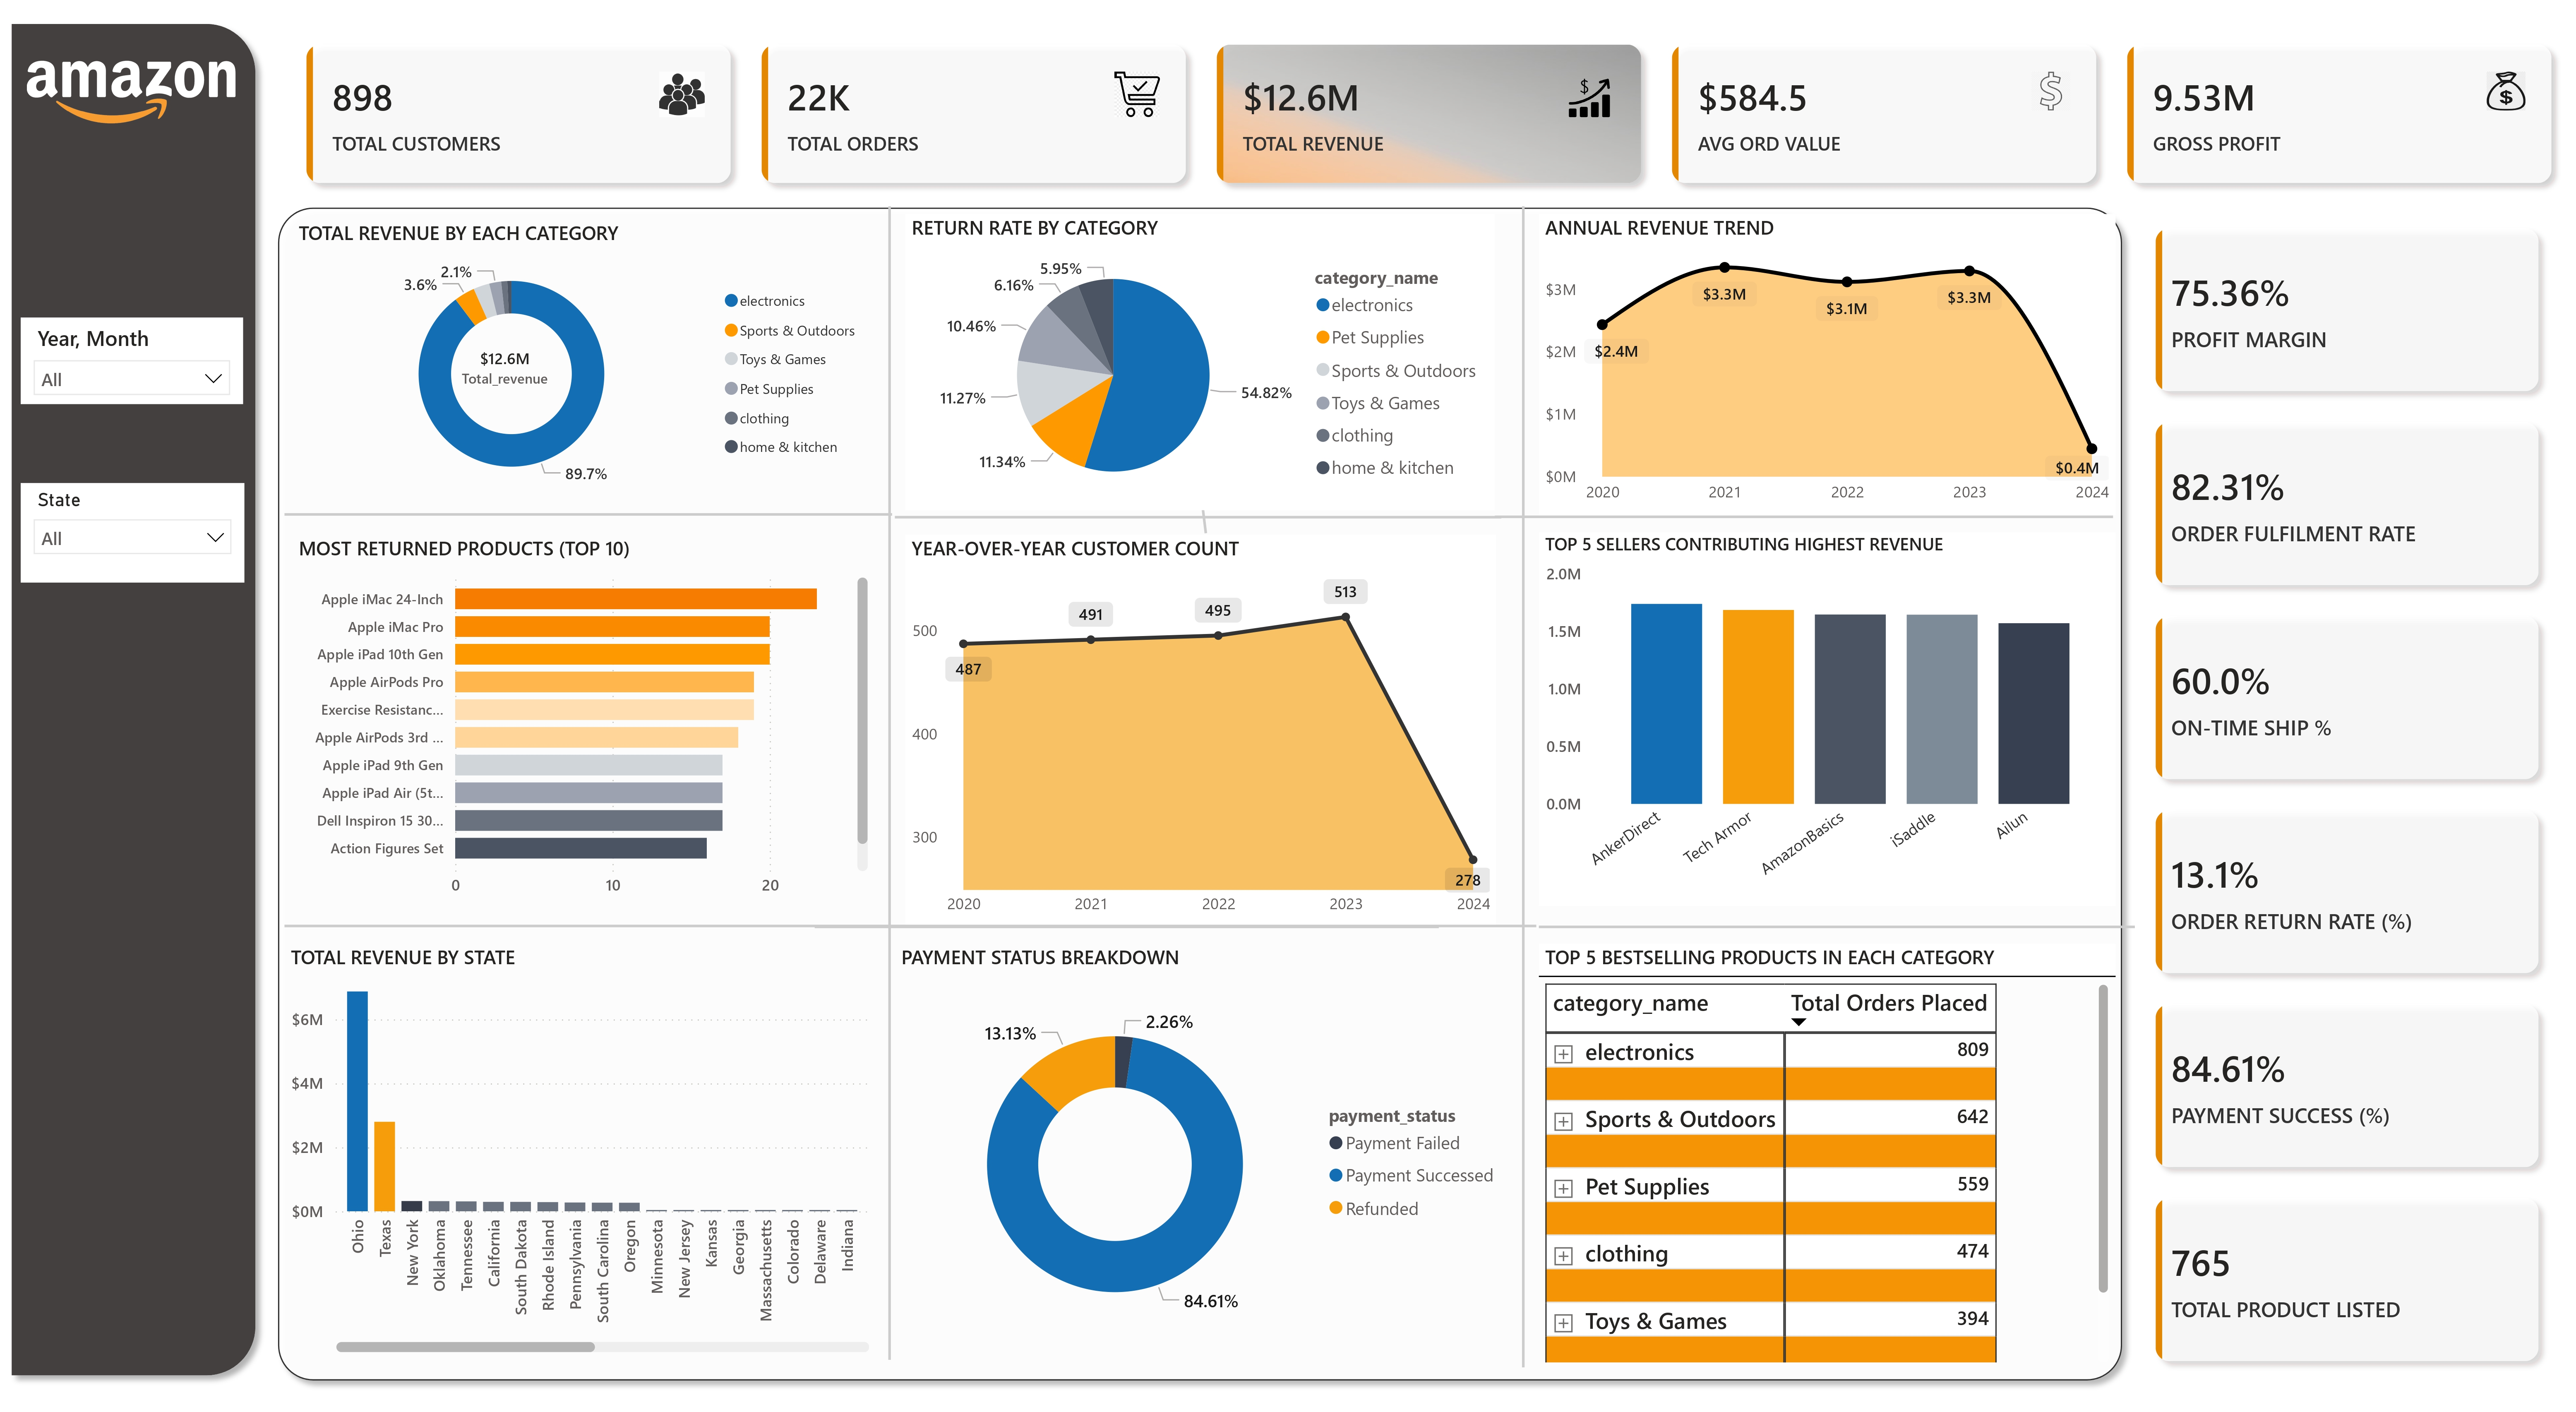

The page's visual inventory and layout, read from the dashboard file:
{"tool":"powerbi","page":{"name":"Amazon Business Dashboard","canvas":[1992,1073],"ordinal":0},"visuals":[{"type":"shape","box":[0,0,206.5,1063],"z":0},{"type":"image","box":[16.4,31.5,172.6,69.9],"z":1000},{"type":"cardVisual","fields":{"Data":["amazon_db customers.Total_customers","amazon_db orders.Total_orders","amazon_db orders_items.Total_revenue","amazon_db customers.Average_order_value","amazon_db orders_items.Gross Profit"]},"box":[219.6,8.7,1773.9,141.3],"z":2000},{"type":"cardVisual","fields":{"Data":["amazon_db orders_items.Profit_margin","amazon_db orders.Order Fulfillment Rate (%)","amazon_db shipping.On-Time-Shipping Rate (%)","amazon_db orders.Order Return Rate (%)","amazon_db payments.Payment Success Rate","amazon_db products.TotalProductListed"]},"box":[1650,150,330.4,913],"z":3000},{"type":"shape","box":[206.5,141.3,1444,925],"z":4000},{"type":"donutChart","title":"TOTAL REVENUE BY EACH CATEGORY","fields":{"Y":["amazon_db orders_items.total_sale"],"Category":["amazon_db category.category_name"]},"box":[225.7,160,450,218.6],"z":5000},{"type":"cardVisual","fields":{"Data":["amazon_db orders_items.Total_revenue"]},"box":[308.6,227.1,165.7,92.9],"z":6000},{"type":"clusteredBarChart","title":"MOST RETURNED PRODUCTS (TOP 10)","fields":{"Category":["amazon_db products.product_name"],"Y":["amazon_db products.Returned Products Count"]},"box":[225.7,404.3,450,288.6],"z":7000},{"type":"columnChart","title":"TOTAL REVENUE BY STATE","fields":{"Category":["amazon_db customers.state"],"Y":["amazon_db orders_items.Total_revenue"]},"box":[219,720.6,457.1,320.6],"z":8000},{"type":"shape","box":[219,374.6,469.8,28.6],"z":9000},{"type":"shape","box":[219.4,691.9,469.4,29],"z":10000},{"type":"shape","box":[676.2,149.2,23.8,892.1],"z":11000},{"type":"lineChart","title":"YEAR-OVER-YEAR CUSTOMER COUNT","fields":{"Y":["amazon_db customers.Total Customers per Year"],"Category":["amazon_db orders.order_year"]},"box":[700,403.2,457.1,303.2],"z":12000},{"type":"shape","box":[691.9,374.2,477.4,29],"z":13000},{"type":"donutChart","title":"PAYMENT STATUS BREAKDOWN","fields":{"Category":["amazon_db payments.payment_status"],"Y":["amazon_db payments.Payment Count"]},"box":[691.9,721,477.4,321],"z":14000},{"type":"shape","box":[688.7,691.9,500,29],"z":15000},{"type":"pieChart","title":"RETURN RATE BY CATEGORY","fields":{"Category":["amazon_db category.category_name"],"Y":["amazon_db shipping.Total Returns"]},"box":[700,155.8,455.8,228.8],"z":16000},{"type":"pivotTable","title":"TOP 5 BESTSELLING PRODUCTS IN EACH CATEGORY","fields":{"Rows":["amazon_db category.category_name","amazon_db products.product_name"],"Values":["amazon_db products.Total Orders Placed"]},"box":[1189.1,719.6,445.7,328.3],"z":17000},{"type":"shape","box":[630.4,691.3,482.6,30.4],"z":18000},{"type":"lineChart","title":"ANNUAL REVENUE TREND ","fields":{"Category":["amazon_db orders.order_year"],"Y":["amazon_db orders_items.Total_revenue"]},"box":[1189.1,156.5,445.7,232.6],"z":19000},{"type":"columnChart","title":"TOP 5 SELLERS CONTRIBUTING HIGHEST REVENUE","fields":{"Category":["amazon_db sellers.seller_name"],"Y":["amazon_db orders_items.total_sale"]},"box":[1189.1,402.2,445.7,289.1],"z":20000},{"type":"shape","box":[692.3,375,469.2,28.8],"z":21000},{"type":"shape","box":[1156.5,376.1,478.3,28.3],"z":22000},{"type":"shape","box":[1165.2,150,23.9,897.8],"z":23000},{"type":"shape","box":[1189.1,691.3,460.9,30.4],"z":24000},{"type":"slicer","fields":{"Values":["amazon_db orders.order_date.Variation.Date Hierarchy.Year","amazon_db orders.order_date.Variation.Date Hierarchy.Month"]},"box":[16.7,236.7,171.7,66.7],"z":25000},{"type":"slicer","fields":{"Values":["amazon_db customers.state"]},"box":[16.7,363.3,173.3,76.7],"z":26000}]}

Visuals, with their boxes in screenshot pixels (x1, y1, x2, y2), scaled from the page's 1992x1073 canvas onto the 2576x1412 screenshot:
shape: select_region(0, 0, 267, 1399)
image: select_region(21, 41, 245, 133)
cardVisual - amazon_db customers.Total_customers x amazon_db orders.Total_orders: select_region(284, 12, 2576, 197)
cardVisual - amazon_db orders_items.Profit_margin x amazon_db orders.Order Fulfillment Rate (%): select_region(2134, 197, 2561, 1399)
shape: select_region(267, 186, 2134, 1403)
"TOTAL REVENUE BY EACH CATEGORY" donutChart: select_region(292, 211, 874, 498)
cardVisual - amazon_db orders_items.Total_revenue: select_region(399, 299, 613, 421)
"MOST RETURNED PRODUCTS (TOP 10)" clusteredBarChart: select_region(292, 532, 874, 912)
"TOTAL REVENUE BY STATE" columnChart: select_region(283, 948, 874, 1370)
shape: select_region(283, 493, 891, 531)
shape: select_region(284, 910, 891, 949)
shape: select_region(874, 196, 905, 1370)
"YEAR-OVER-YEAR CUSTOMER COUNT" lineChart: select_region(905, 531, 1496, 929)
shape: select_region(895, 492, 1512, 531)
"PAYMENT STATUS BREAKDOWN" donutChart: select_region(895, 949, 1512, 1371)
shape: select_region(891, 910, 1537, 949)
"RETURN RATE BY CATEGORY" pieChart: select_region(905, 205, 1495, 506)
"TOP 5 BESTSELLING PRODUCTS IN EACH CATEGORY" pivotTable: select_region(1538, 947, 2114, 1379)
shape: select_region(815, 910, 1439, 950)
"ANNUAL REVENUE TREND " lineChart: select_region(1538, 206, 2114, 512)
"TOP 5 SELLERS CONTRIBUTING HIGHEST REVENUE" columnChart: select_region(1538, 529, 2114, 910)
shape: select_region(895, 493, 1502, 531)
shape: select_region(1496, 495, 2114, 532)
shape: select_region(1507, 197, 1538, 1379)
shape: select_region(1538, 910, 2134, 950)
slicer - amazon_db orders.order_date.Variation.Date Hierarchy.Year x amazon_db orders.order_date.Variation.Date Hierarchy.Month: select_region(22, 312, 244, 399)
slicer - amazon_db customers.state: select_region(22, 478, 246, 579)
